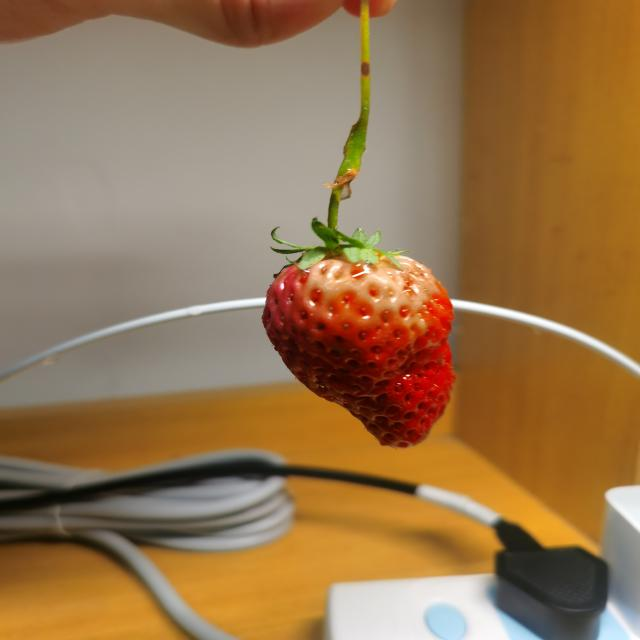stem: (328, 163, 360, 253)
strawberry: (263, 249, 455, 448)
